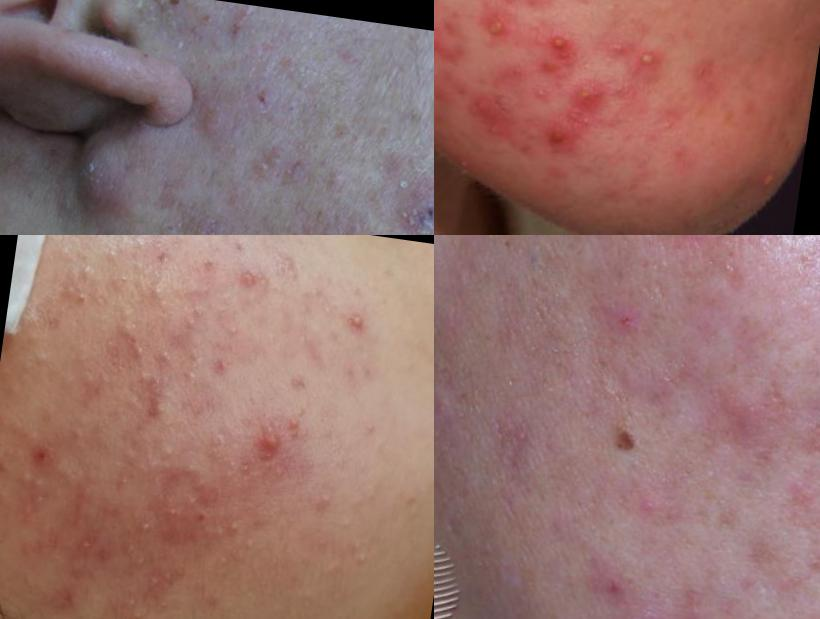cystic: (41, 120, 153, 228)
papular: (452, 81, 518, 147), (526, 112, 586, 173), (581, 566, 653, 616), (241, 421, 299, 470), (664, 579, 732, 619), (138, 396, 189, 429)
purulent: (341, 308, 379, 351), (636, 45, 673, 80), (482, 14, 519, 47), (544, 29, 575, 64)
sebo-crystan-conglo: (383, 186, 435, 236), (254, 145, 290, 192), (435, 21, 445, 59)
whitehead: (56, 242, 128, 314), (141, 273, 182, 318), (342, 539, 382, 575), (16, 466, 45, 512), (120, 333, 153, 369), (120, 593, 164, 619), (233, 261, 268, 292), (182, 351, 208, 391), (275, 249, 304, 282), (129, 512, 161, 541), (100, 236, 129, 266), (128, 548, 158, 576), (140, 456, 181, 476), (65, 428, 93, 457), (119, 530, 142, 564), (27, 348, 52, 377), (181, 304, 205, 333), (311, 487, 335, 516), (179, 459, 209, 482), (154, 347, 177, 373), (73, 537, 98, 560), (113, 471, 137, 494), (211, 549, 237, 569), (226, 319, 245, 342), (242, 533, 258, 558), (183, 489, 202, 509), (65, 373, 78, 398), (229, 519, 245, 538)
